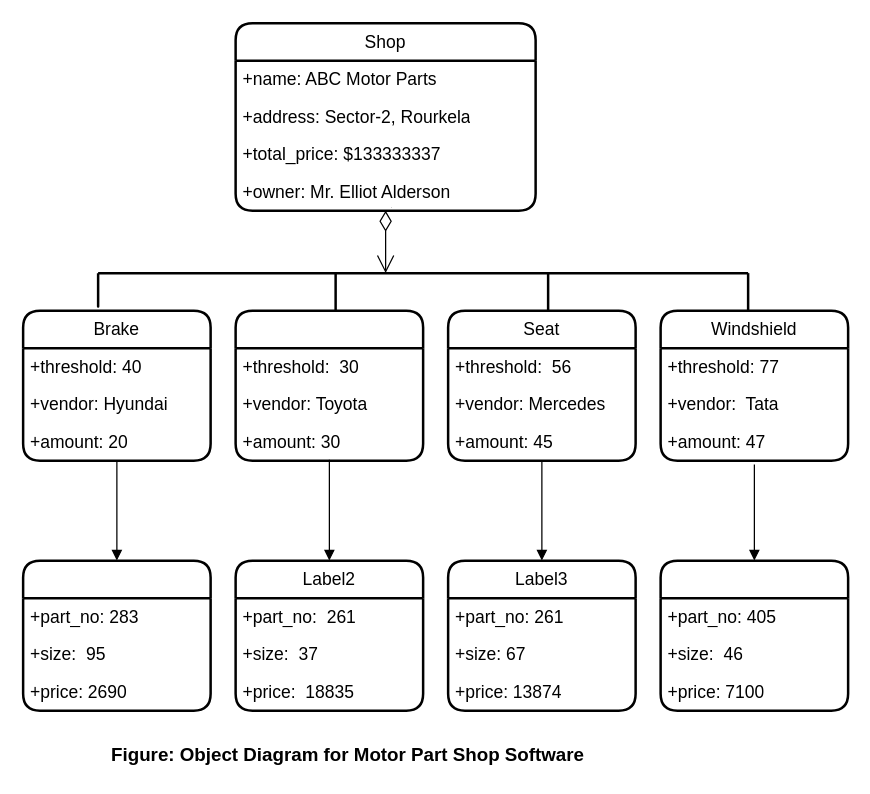
This 870x794 diagram has some shape labels left out. The shapes that lost their labels are listed below. From the top down, each one's box as (x1, y1, x2, y2) in pixels, then its label:
(234, 309, 424, 461): Gear
(21, 559, 211, 711): Label1
(659, 559, 849, 711): Label4
